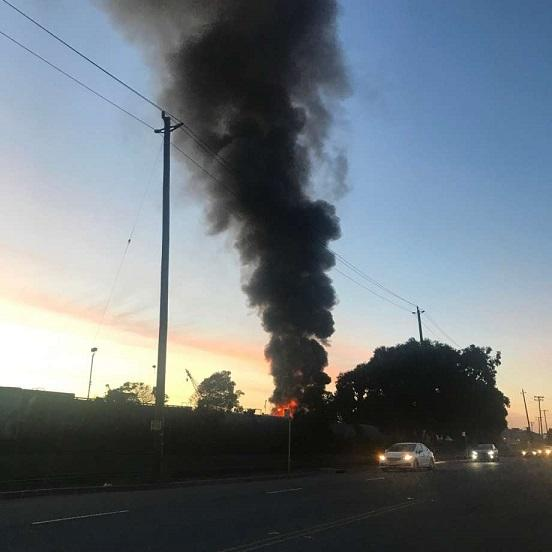smoke: (187, 4, 319, 163), (260, 214, 330, 384)
